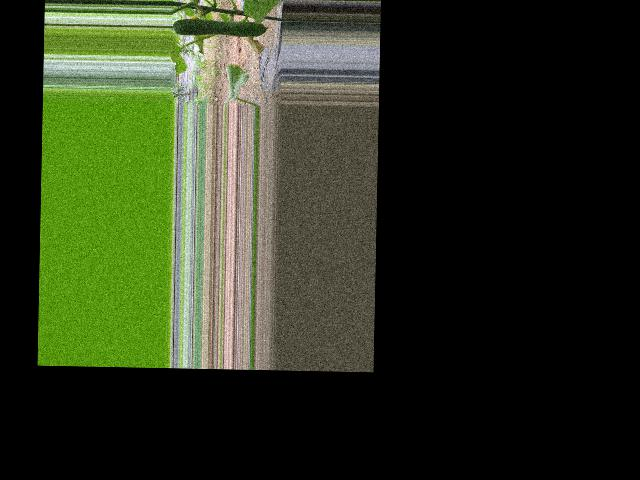cucumber: (173, 18, 269, 37)
